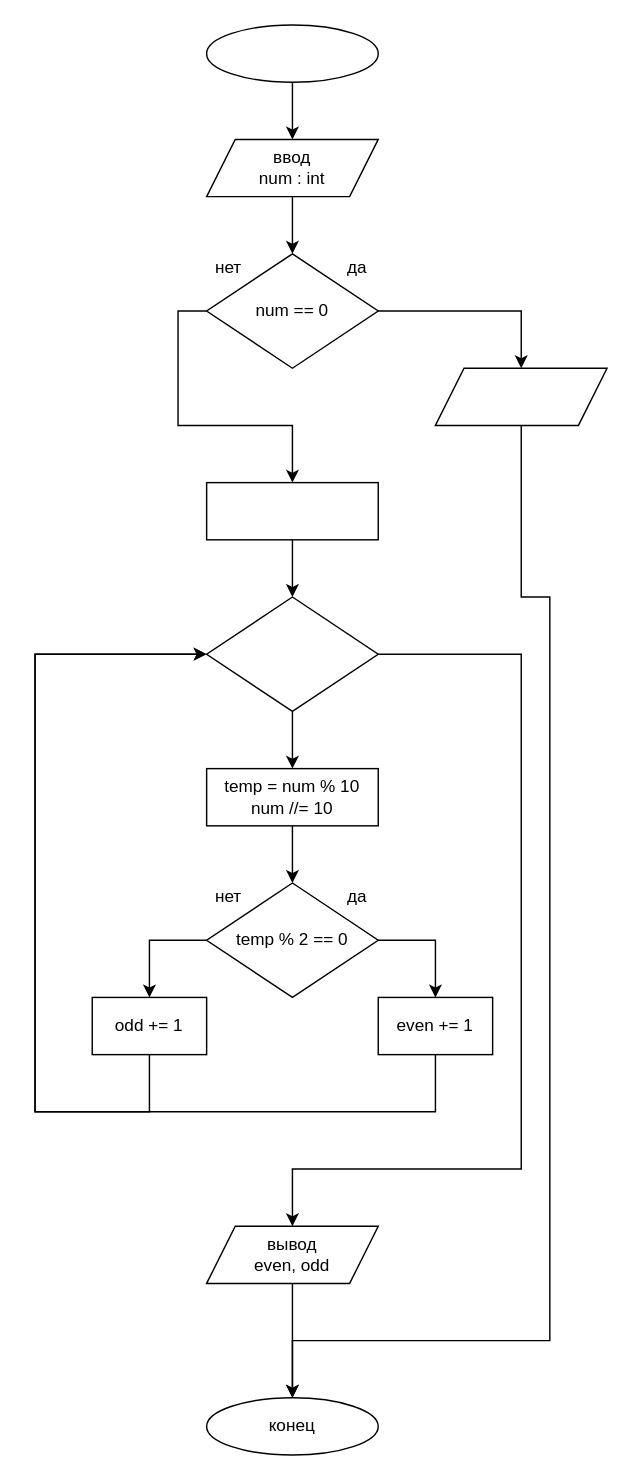
Some shapes in this 632 by 1480 pixel diagram are drawn without their labels. The centre of each missing label's shape, as x and y in pixels:
even = 0 odd = 0: [291,510]
while num > 0: [291,653]
вывод even = 1 odd = 0: [520,396]
начало: [291,53]
